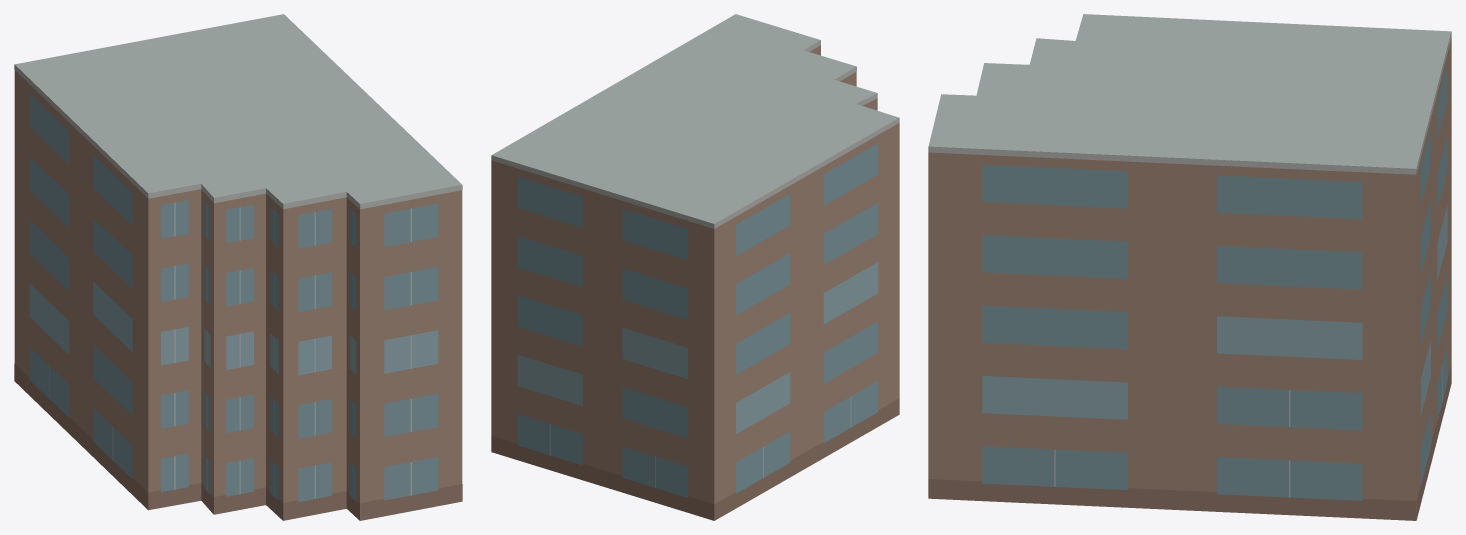
Rendered from survey-upis-32722976.glb.
3 views of the same model, side by side, from view 1: azimuth 30°, elevation 25°; view 2: azimuth 150°, elevation 25°; view 3: azimuth 270°, elevation 25° (orthographic). The views are drawn at different scales.
Visible parts, largest first — view 1: survey-upis-32722976.tmp; view 2: survey-upis-32722976.tmp; view 3: survey-upis-32722976.tmp.
Part boxes in pixels (x1=…): survey-upis-32722976.tmp: x1=14, y1=14, x2=462, y2=520; survey-upis-32722976.tmp: x1=491, y1=14, x2=899, y2=520; survey-upis-32722976.tmp: x1=928, y1=14, x2=1451, y2=520.
Bounding box in the file's own units: 13.69 × 14.5 × 19.54.
